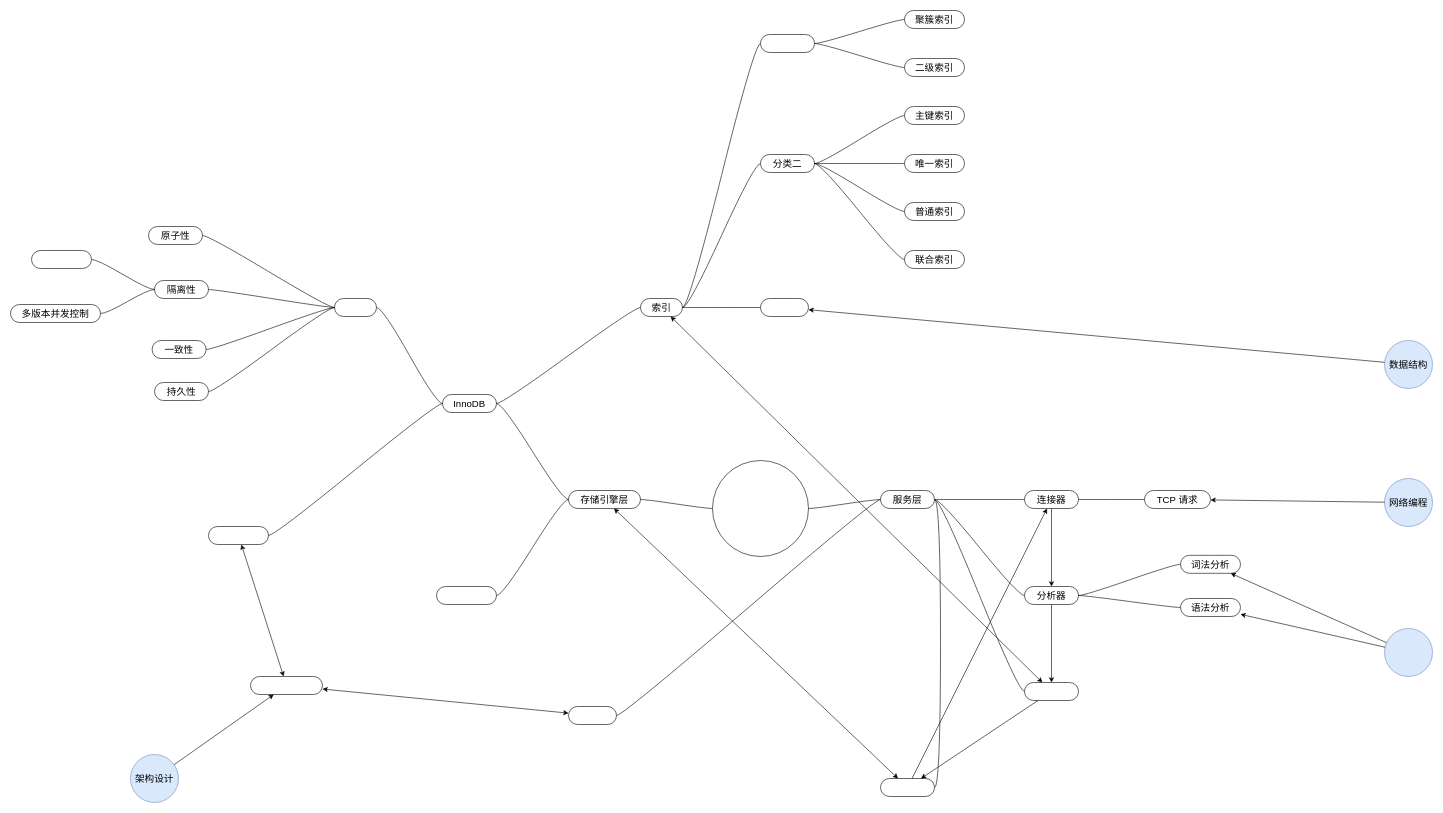
Some shapes in this 1443 by 813 pixel diagram are drawn without their labels. The centre of each missing label's shape, as x and y in pixels:
"B+ 树" belongs at [784,307].
"binlog" belongs at [592,715].
"MyISAM" belongs at [466,595].
"MySQL" belongs at [760,508].
"redo log" belongs at [238,535].
"事务" belongs at [355,307].
"二阶段提交" belongs at [286,685].
"优化器" belongs at [1051,691].
"分类一" belongs at [787,43].
"执行器" belongs at [907,787].
"逻辑" belongs at [1408,652].
"隔离级别" belongs at [61,259].
